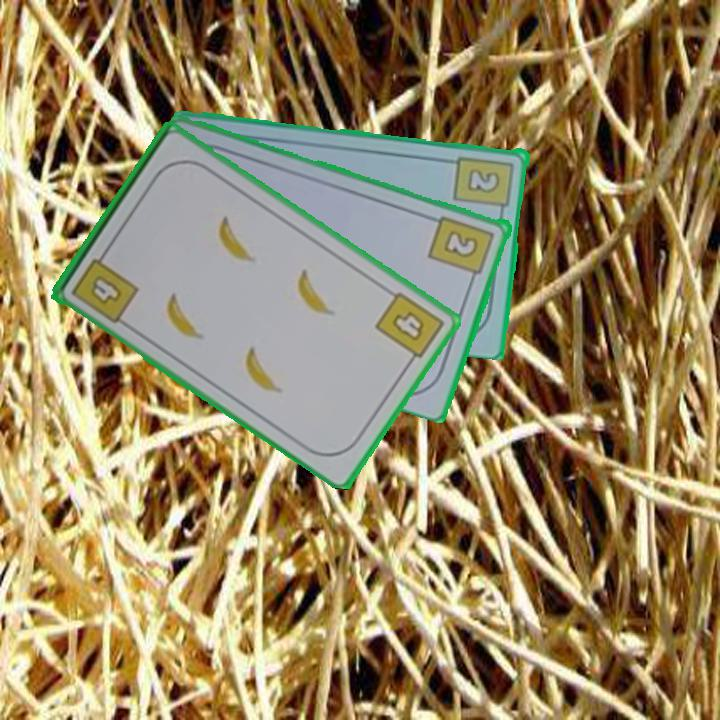2b: (426, 212, 498, 286), (451, 152, 517, 219)
4b: (371, 288, 447, 369), (67, 246, 142, 327)
